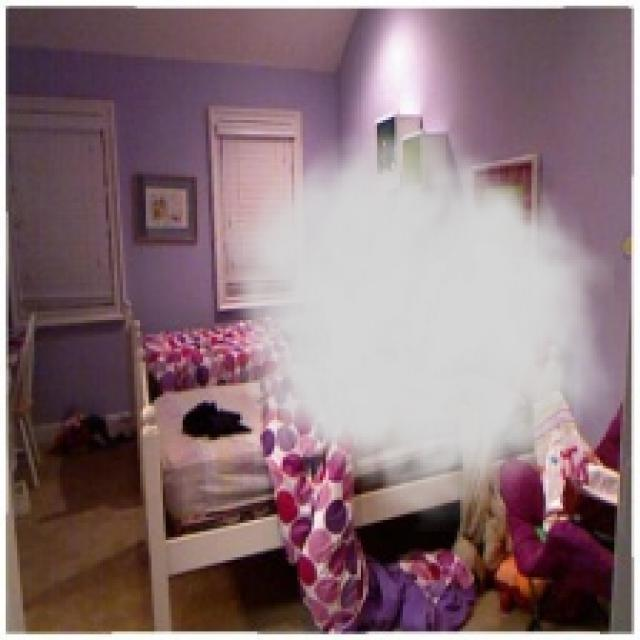Smoke: (208, 106, 614, 532)
